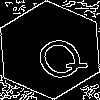Q: (25, 25, 91, 87)
